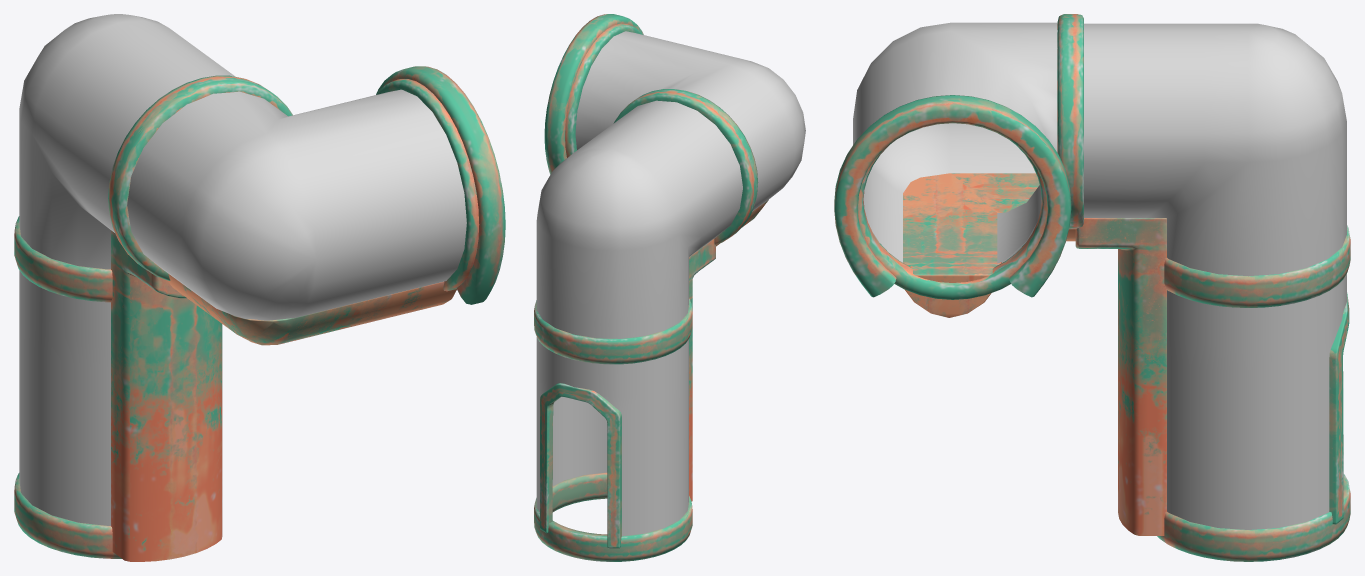
File: elvator.fbx
3 renders of one model, left to right at view 1: azimuth 30°, elevation 25°; view 2: azimuth 150°, elevation 25°; view 3: azimuth 270°, elevation 25°, orthographic. The views are drawn at different scales.
Visible parts, largest first — view 1: elevator_glass4, elevator_glass, polySurface820, polySurface818, polySurface815, elevator_glass2, polySurface817, polySurface816; view 2: elevator_glass, elevator_glass4, polySurface817, polySurface818, polySurface812, polySurface816, polySurface815, polySurface820; view 3: elevator_glass, elevator_glass4, polySurface818, polySurface820, elevator_glass2, polySurface816, polySurface817, polySurface815, polySurface812.
Part boxes in pixels (x1,y1,x2,y2): elevator_glass4: (127, 89, 466, 320); elevator_glass: (19, 14, 235, 525); polySurface820: (111, 230, 222, 561); polySurface818: (376, 66, 505, 304); polySurface815: (108, 75, 292, 280); elevator_glass2: (167, 273, 456, 345); polySurface817: (14, 473, 121, 558); polySurface816: (14, 216, 112, 302); elevator_glass: (536, 100, 742, 536); elevator_glass4: (575, 31, 805, 211); polySurface817: (534, 472, 692, 561); polySurface818: (544, 14, 643, 174); polySurface812: (540, 383, 621, 548); polySurface816: (534, 298, 692, 364); polySurface815: (613, 89, 758, 244); polySurface820: (689, 239, 715, 501); elevator_glass: (1084, 23, 1346, 529); elevator_glass4: (853, 22, 1057, 263); polySurface818: (834, 95, 1071, 299); polySurface820: (1075, 218, 1166, 535); elevator_glass2: (903, 173, 1075, 317); polySurface816: (1164, 225, 1350, 307); polySurface817: (1157, 474, 1350, 561); polySurface815: (1057, 14, 1083, 229); polySurface812: (1329, 292, 1349, 524).
Size of the model in its own units: 449 by 791 by 736.
